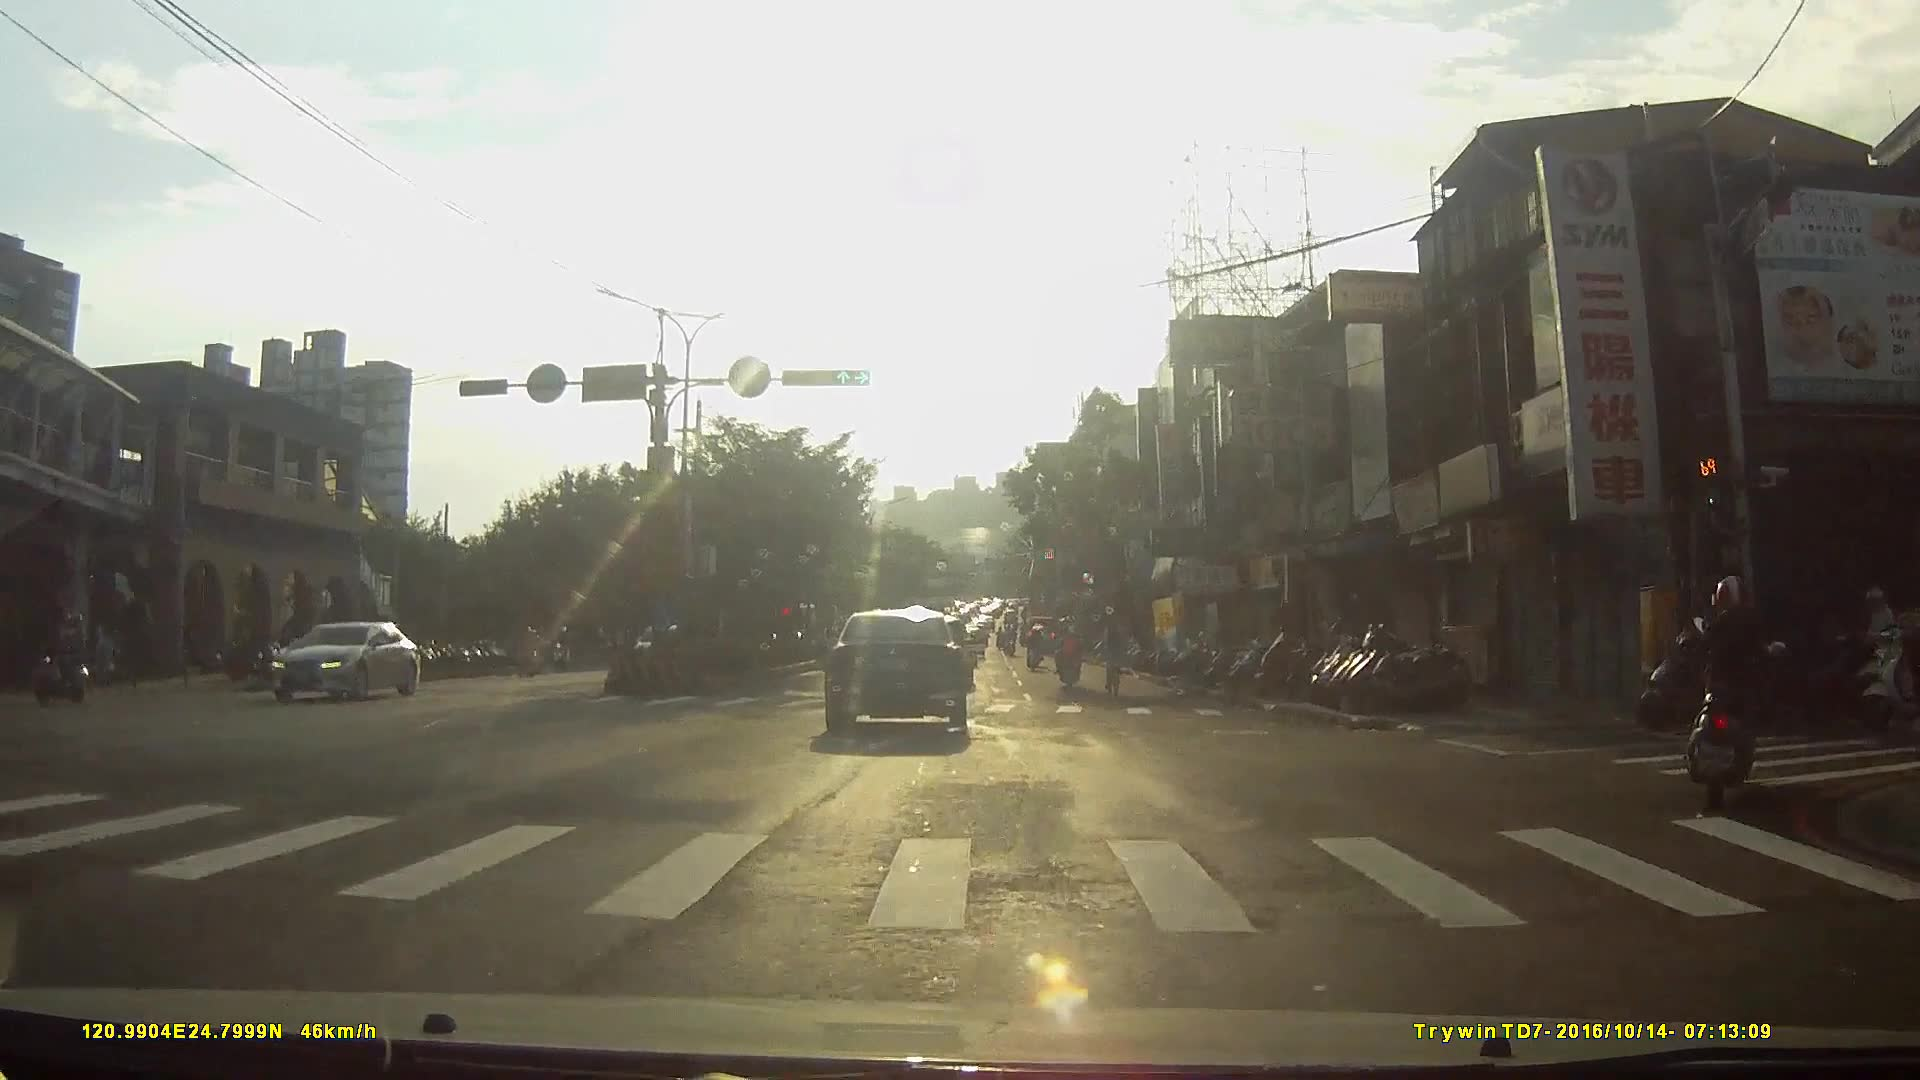rider: (1684, 572, 1791, 811), (31, 611, 88, 701), (1100, 614, 1125, 701), (1055, 623, 1083, 690), (516, 627, 548, 677), (550, 624, 577, 672), (1024, 625, 1048, 673)
vehicle: (825, 608, 984, 749), (269, 616, 426, 713)
